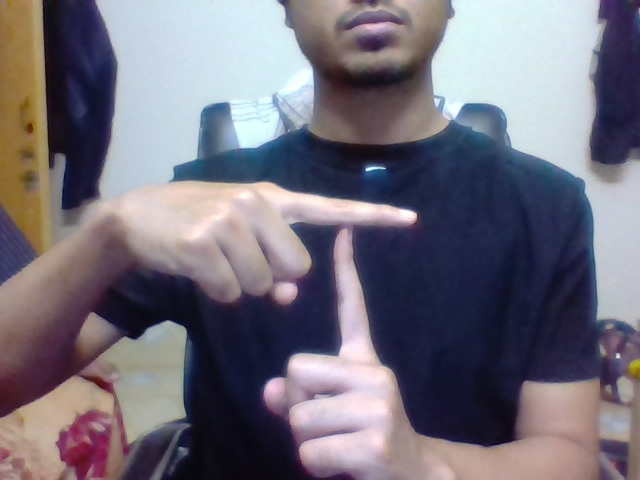T: (313, 179, 432, 345)
